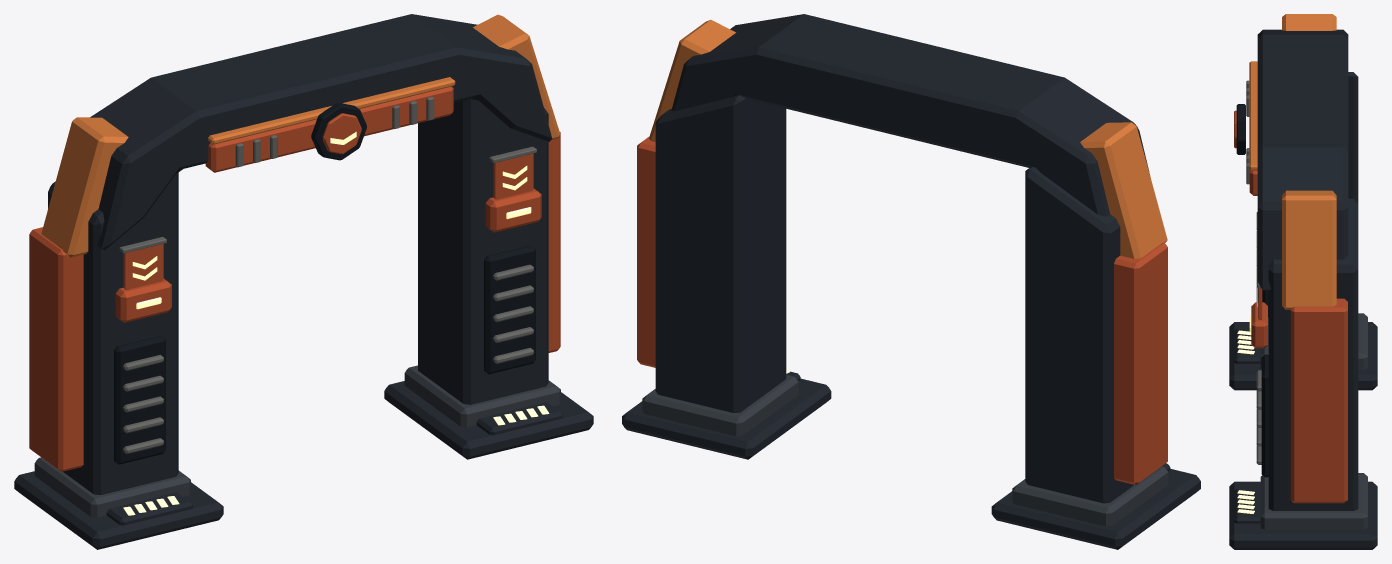
The model's file is wsc-arch-008-titan-surface-gate.glb.
The picture shows the model from 3 angles, left to right: view 1: azimuth 30°, elevation 25°; view 2: azimuth 150°, elevation 25°; view 3: azimuth 270°, elevation 25°; orthographic projection. The views are drawn at different scales.
Visible parts, largest first — view 1: charcoal, orange, ochre, cinder, gunmetal, steel, ivory; view 2: charcoal, orange, ochre, gunmetal; view 3: charcoal, orange, ochre, gunmetal, cinder, steel, ivory.
Boxes of the visible parts, x1=… form: charcoal: x1=14, y1=14, x2=593, y2=549; orange: x1=29, y1=86, x2=560, y2=471; ochre: x1=41, y1=14, x2=560, y2=257; cinder: x1=114, y1=102, x2=535, y2=464; gunmetal: x1=34, y1=365, x2=560, y2=517; steel: x1=119, y1=96, x2=536, y2=453; ivory: x1=123, y1=131, x2=549, y2=515; charcoal: x1=622, y1=14, x2=1200, y2=549; orange: x1=637, y1=136, x2=1167, y2=484; ochre: x1=649, y1=20, x2=1167, y2=258; gunmetal: x1=642, y1=374, x2=1168, y2=526; charcoal: x1=1229, y1=29, x2=1377, y2=549; orange: x1=1234, y1=110, x2=1347, y2=503; ochre: x1=1249, y1=14, x2=1336, y2=309; gunmetal: x1=1260, y1=313, x2=1367, y2=529; cinder: x1=1236, y1=104, x2=1268, y2=477; steel: x1=1246, y1=80, x2=1261, y2=464; ivory: x1=1233, y1=124, x2=1257, y2=513.
Size of the model in its own units: 6.17 by 4.68 by 1.78.
